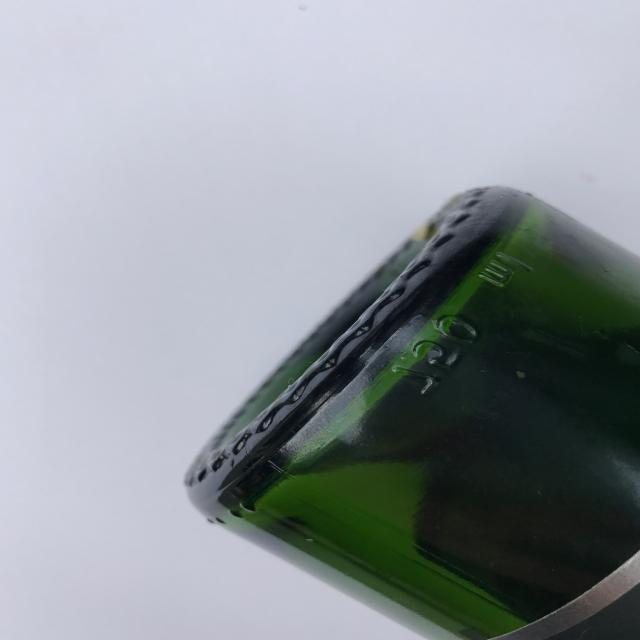glass: (123, 168, 640, 640)
